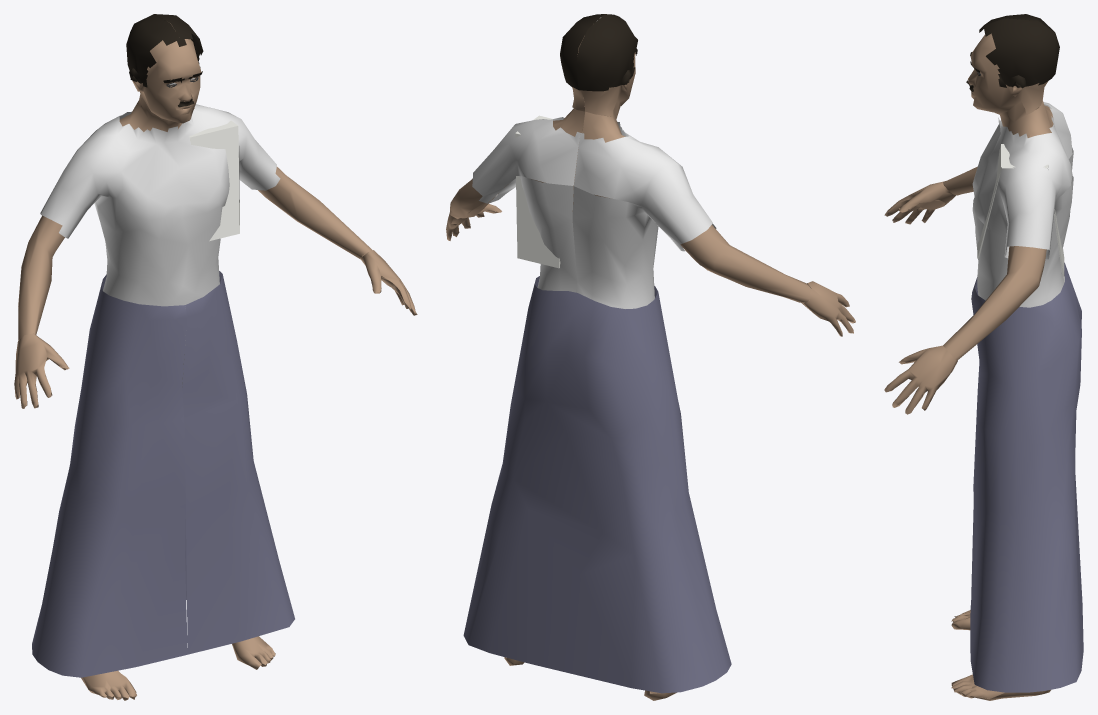
The model's file is man_01.glb.
The picture shows the model from 3 angles, left to right: view 1: azimuth 30°, elevation 25°; view 2: azimuth 150°, elevation 25°; view 3: azimuth 270°, elevation 25°; orthographic projection.
Visible parts, largest first — view 1: crowd; view 2: crowd; view 3: crowd.
Part boxes in pixels (x1,y1,x2,y2): crowd: (14, 14, 417, 700); crowd: (446, 14, 855, 700); crowd: (884, 14, 1083, 700).
Bounding box in the file's own units: 1.15 × 1.8 × 0.5059.
